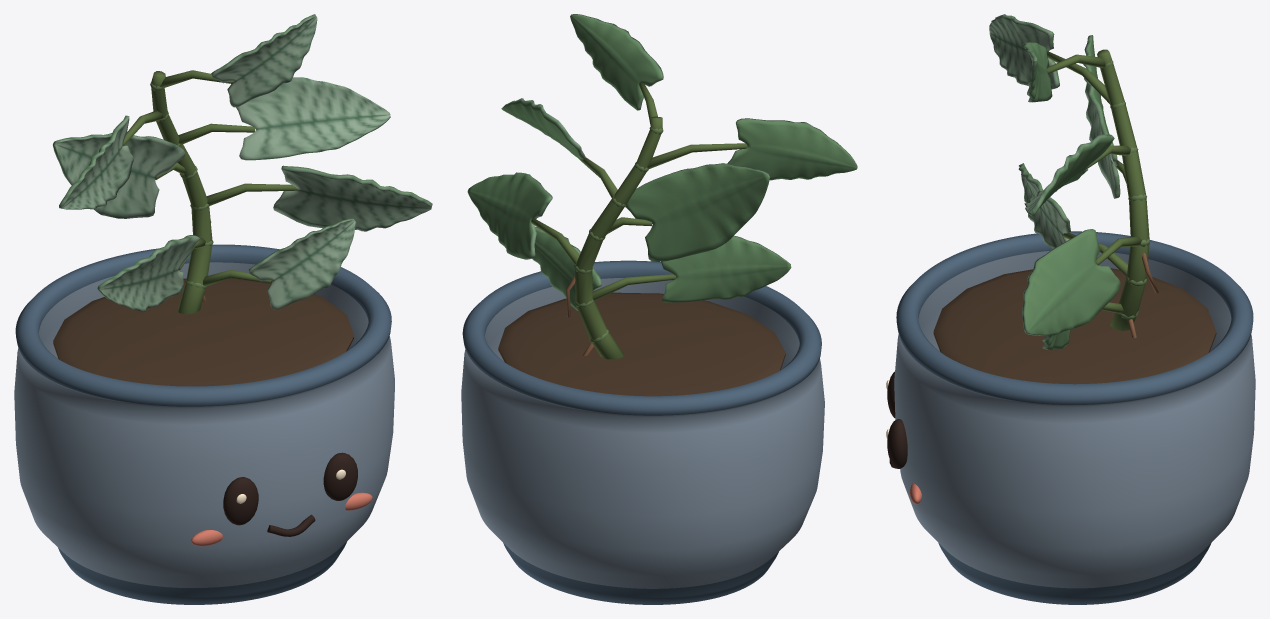
The model's file is silver-monstera-v1.glb.
3 renders of one model, left to right at view 1: azimuth 30°, elevation 25°; view 2: azimuth 150°, elevation 25°; view 3: azimuth 270°, elevation 25°, orthographic. The views are drawn at different scales.
Visible parts, largest first — view 1: Wheel-thrown ceramic, Foliage draw mesh, Soil, Eye, Eye.001; view 2: Wheel-thrown ceramic, Foliage draw mesh, Soil; view 3: Wheel-thrown ceramic, Foliage draw mesh, Soil, Eye.001.
Boxes of the visible parts, <box> form: Wheel-thrown ceramic: <box>14,244,394,604</box>; Foliage draw mesh: <box>53,14,432,314</box>; Soil: <box>53,278,353,386</box>; Eye: <box>223,477,258,525</box>; Eye.001: <box>323,452,357,500</box>; Wheel-thrown ceramic: <box>461,260,824,604</box>; Foliage draw mesh: <box>467,14,857,359</box>; Soil: <box>498,292,785,396</box>; Wheel-thrown ceramic: <box>894,231,1255,604</box>; Foliage draw mesh: <box>989,14,1158,349</box>; Soil: <box>933,268,1216,384</box>; Eye.001: <box>887,419,907,468</box>.
Size of the model in its own units: 1.89 by 2.45 by 1.53.
